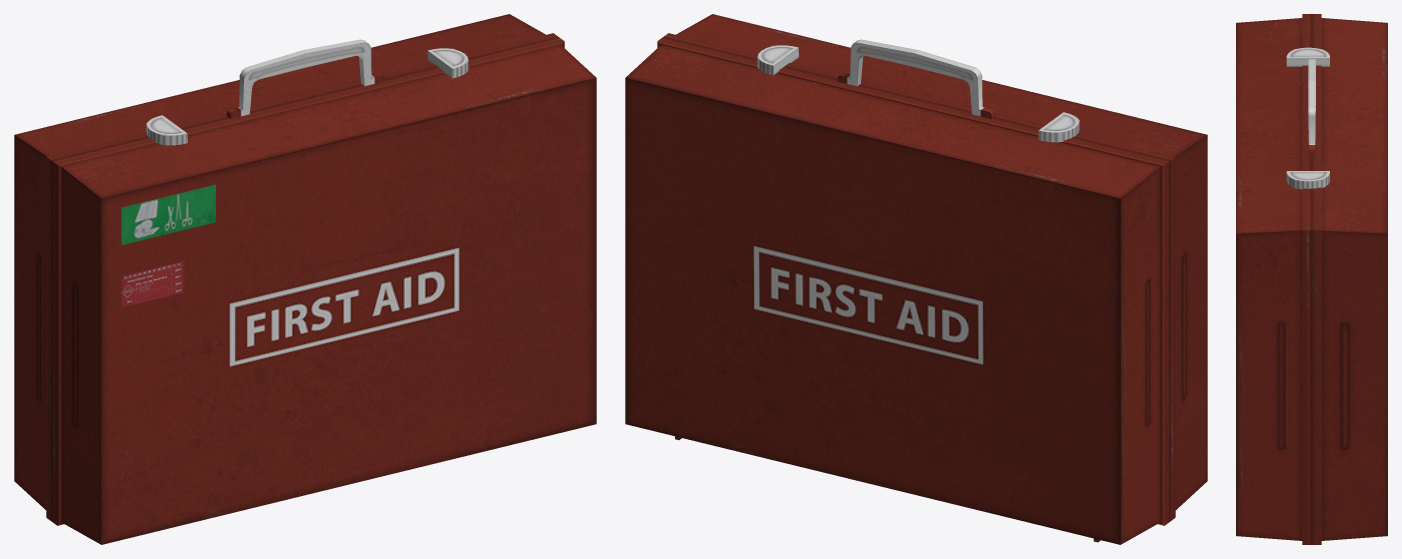
File: ms_first_aid_kit.fbx
The picture shows the model from 3 angles, left to right: view 1: azimuth 30°, elevation 25°; view 2: azimuth 150°, elevation 25°; view 3: azimuth 270°, elevation 25°; orthographic projection. The views are drawn at different scales.
Parts seen in each view (by area): view 1: ms_first_aid_kit; view 2: ms_first_aid_kit; view 3: ms_first_aid_kit.
Boxes of the visible parts, left/top/right/bottom form: ms_first_aid_kit: left=14, top=14, right=596, bottom=544; ms_first_aid_kit: left=625, top=14, right=1207, bottom=544; ms_first_aid_kit: left=1236, top=14, right=1387, bottom=544.
Bounding box in the file's own units: 48.29 × 37.97 × 14.36.
